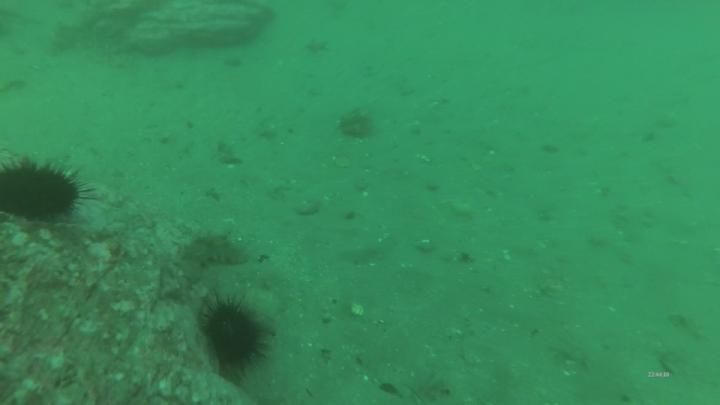echinus: (199, 293, 278, 384), (1, 157, 86, 231)
holothurian: (172, 231, 250, 289)
